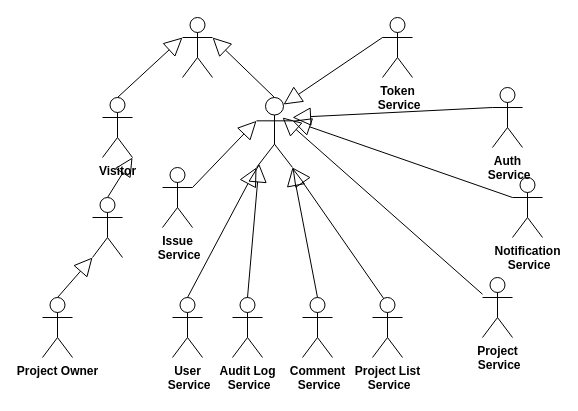
Some shapes in this 578 by 411 pixel diagram are drawn without their labels. The centre of each missing label's shape, as x and y in pixels:
"Actors" goes at (x=197, y=47).
"Project Member" goes at (x=107, y=227).
"Services" goes at (x=274, y=132).
